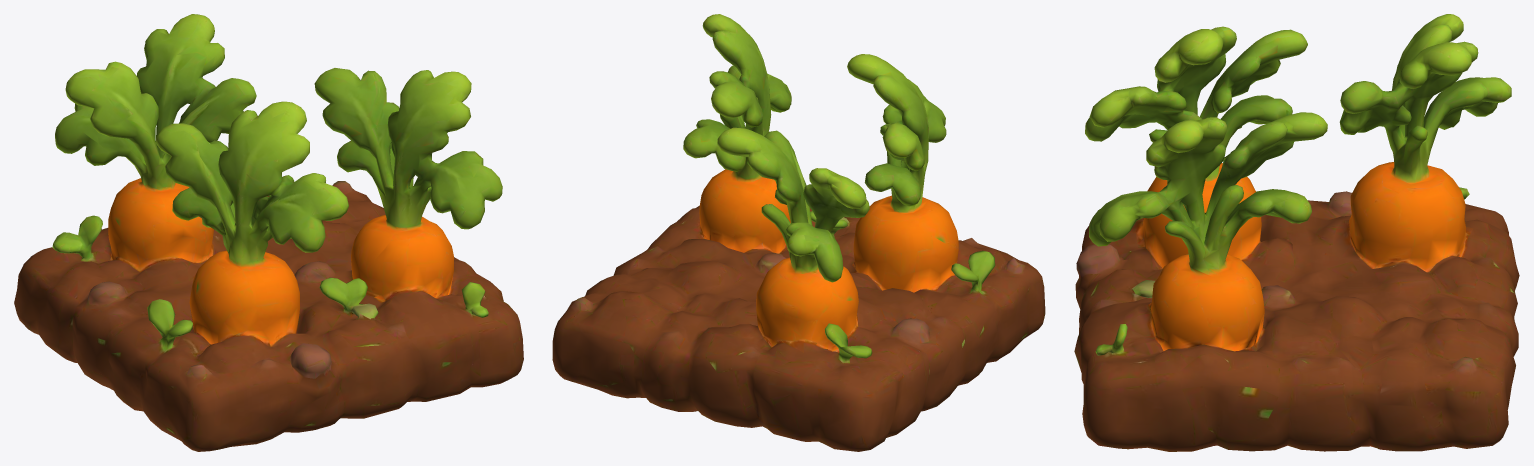
3 renders of one model, left to right at view 1: azimuth 30°, elevation 25°; view 2: azimuth 150°, elevation 25°; view 3: azimuth 270°, elevation 25°, orthographic. The views are drawn at different scales.
Visible parts, largest first — view 1: carrot-ready; view 2: carrot-ready; view 3: carrot-ready.
Part boxes in pixels (x1,y1,x2,y2): carrot-ready: [14, 14, 523, 451]; carrot-ready: [552, 14, 1045, 451]; carrot-ready: [1074, 14, 1519, 451].
Bounding box in the file's own units: 0.8 × 0.6354 × 0.8034.
1 material, 1 textured.
